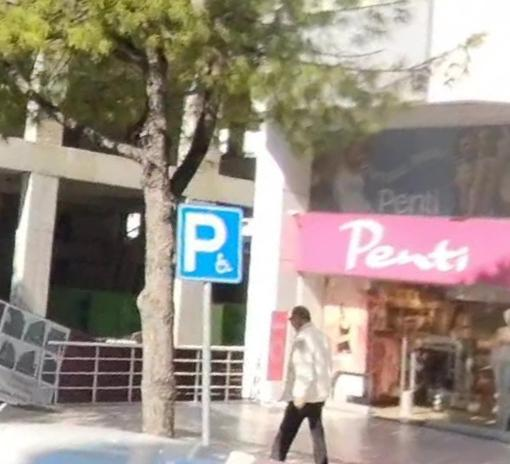disabledpark: (182, 206, 242, 281)
